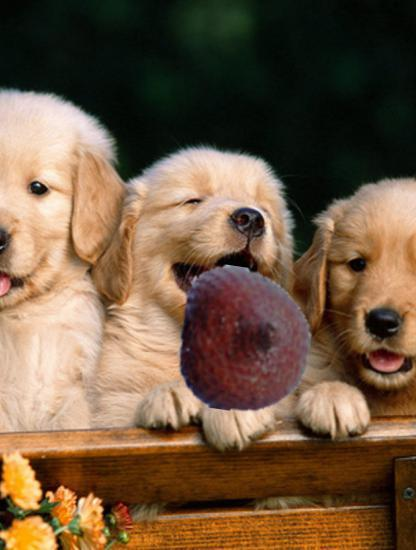Salak: (172, 268, 316, 412)
